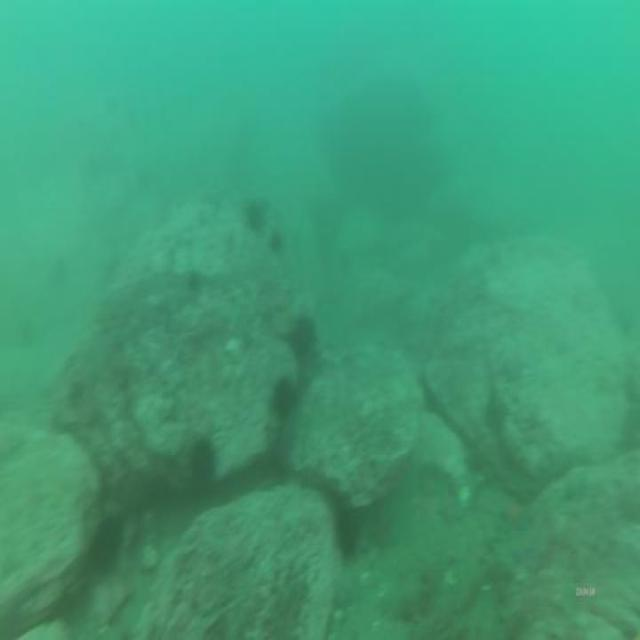echinus: (194, 436, 216, 492), (95, 523, 117, 575), (275, 378, 294, 414), (340, 514, 356, 552), (298, 318, 314, 356), (248, 201, 262, 234)
starfish: (502, 496, 526, 533), (566, 471, 590, 502)
